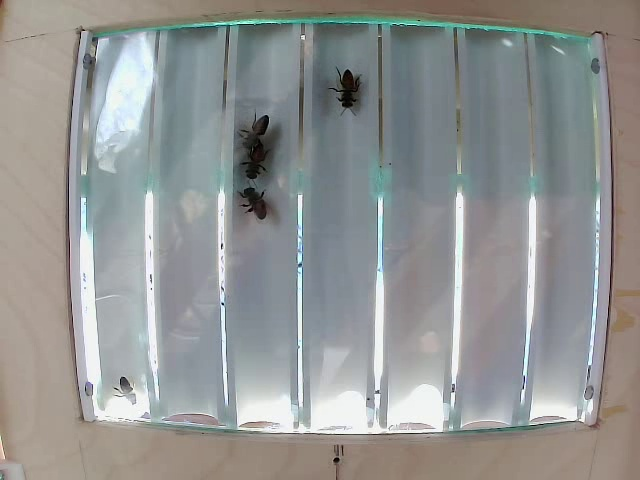bee: (236, 188, 275, 227), (244, 110, 273, 152), (333, 64, 356, 116), (243, 147, 271, 184), (114, 371, 138, 409)
